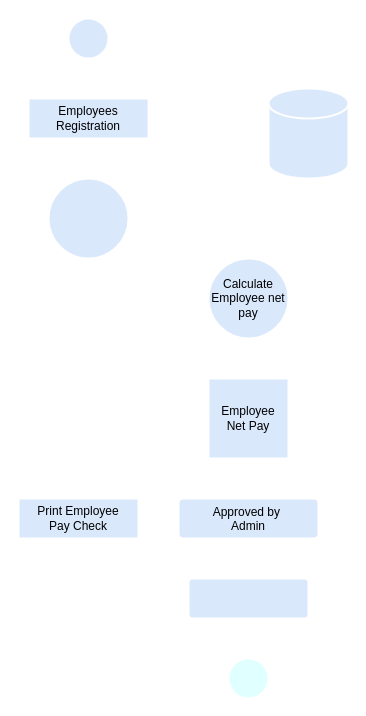
Some shapes in this 366 by 716 pixel diagram are drawn without their labels. The centre of each missing label's shape, as x and y in pixels:
Employee Details: (88,218)
Generate Payslip: (248,598)
System Database: (308,133)
